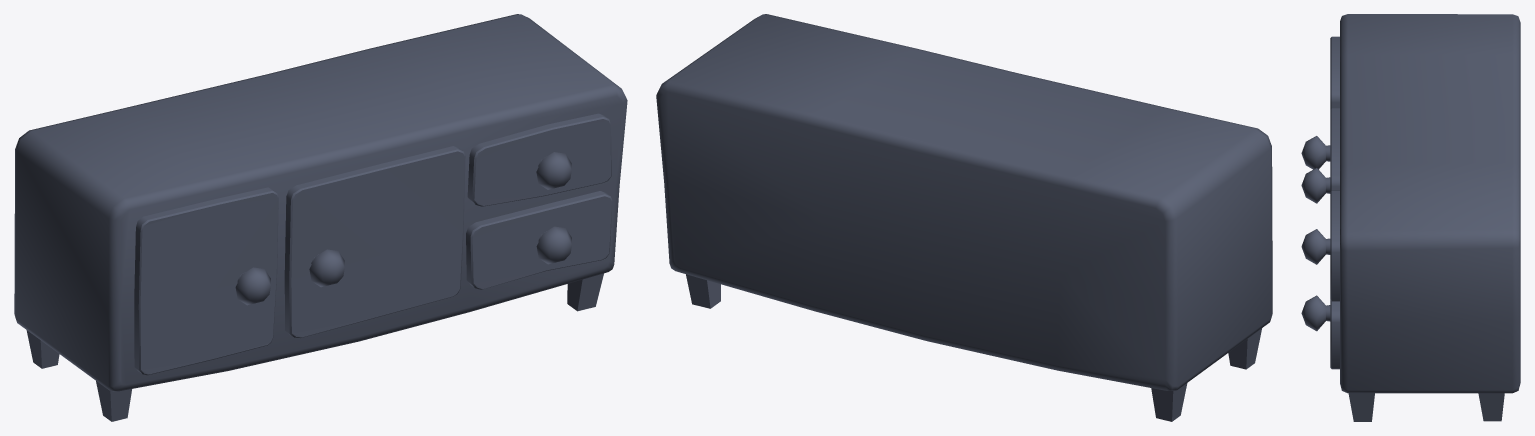
Rendered from SideboardLong.FBX.
The picture shows the model from 3 angles, left to right: view 1: azimuth 30°, elevation 25°; view 2: azimuth 150°, elevation 25°; view 3: azimuth 270°, elevation 25°; orthographic projection. The views are drawn at different scales.
Parts seen in each view (by area): view 1: Sideboard_Long; view 2: Sideboard_Long; view 3: Sideboard_Long.
Part boxes in pixels (x1,y1,x2,y2): Sideboard_Long: [14, 14, 627, 421]; Sideboard_Long: [656, 14, 1272, 421]; Sideboard_Long: [1301, 14, 1520, 421].
Size of the model in its own units: 225 by 94.2 by 92.69.
